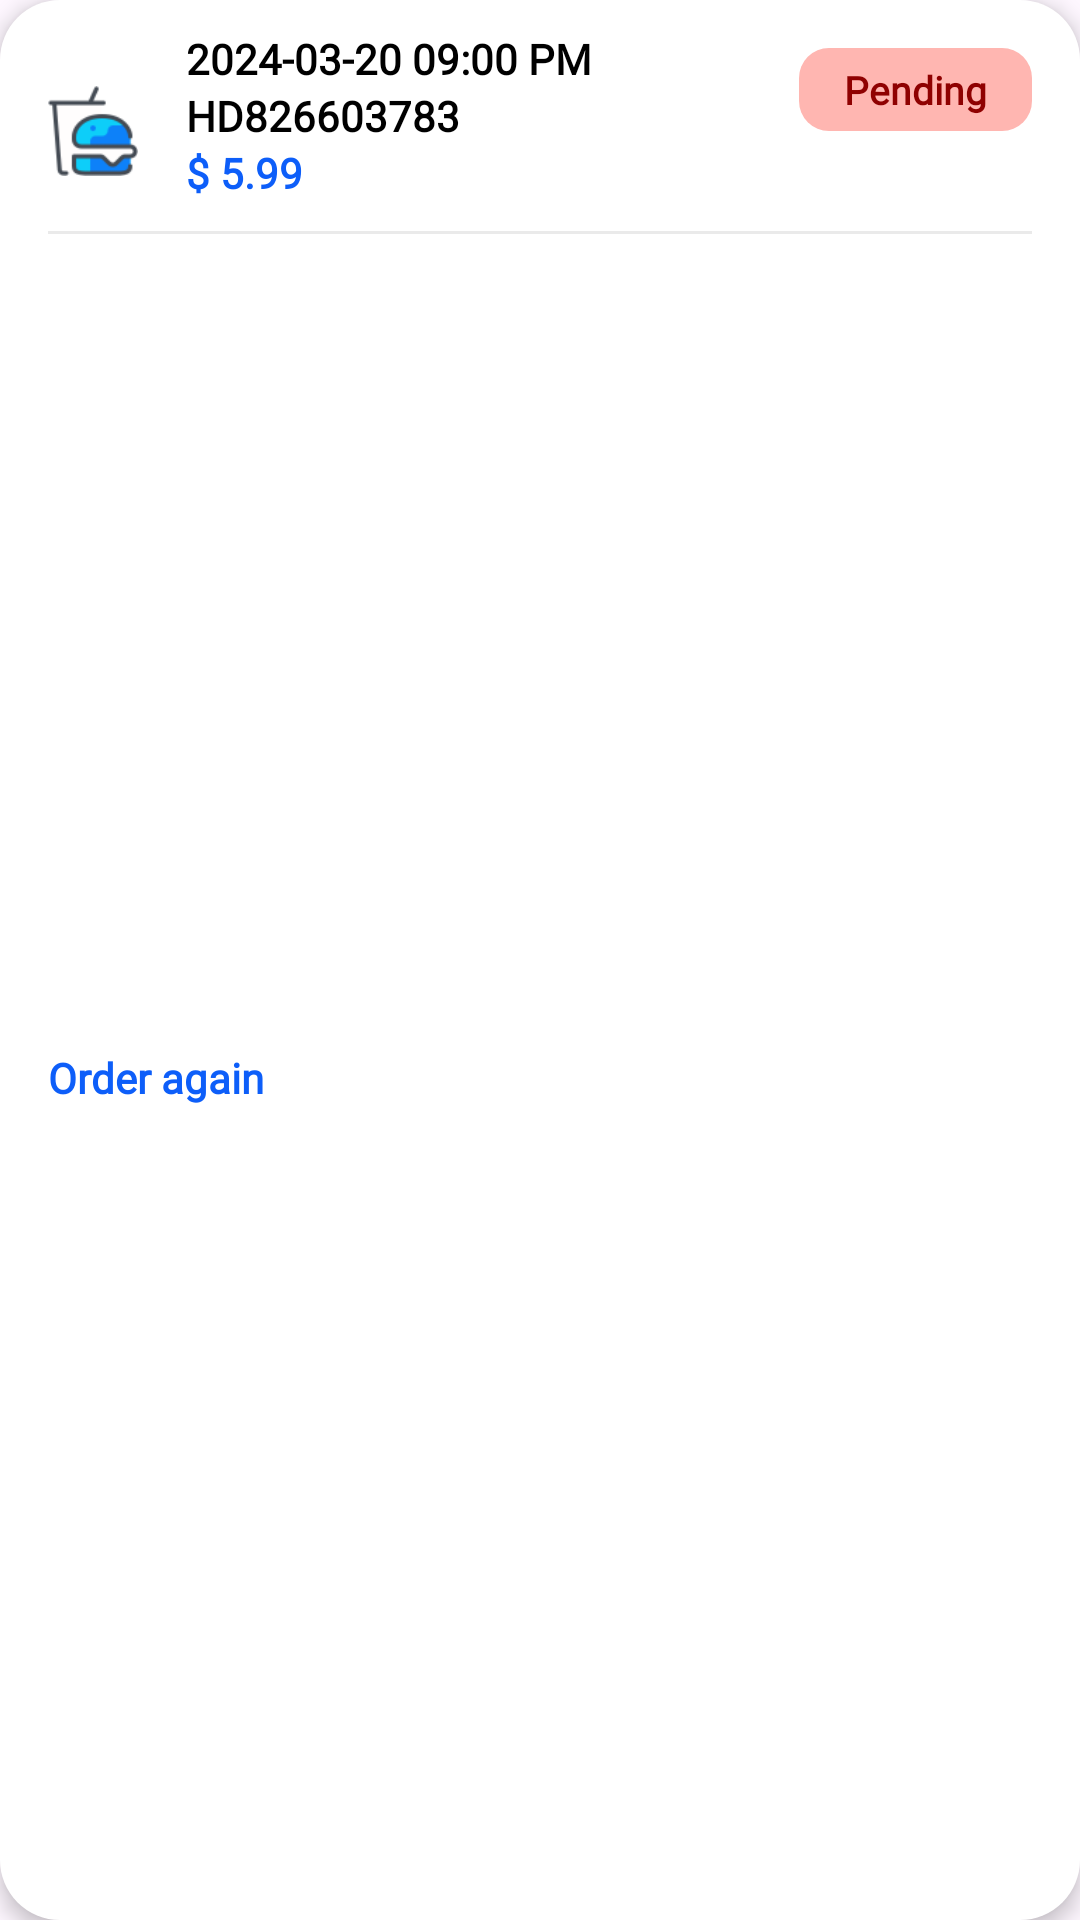

Point at icon controls on the screen. Image size 1080px×1920px, points as (x=x, y=y).
food bill: (x=93, y=131)
